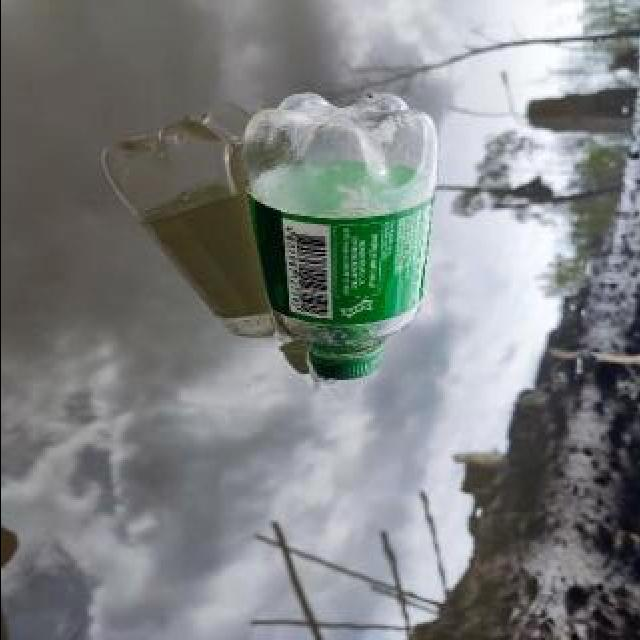Bottle: (233, 78, 449, 392)
